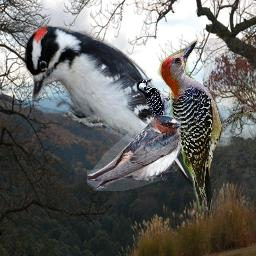Swallow: (87, 115, 181, 191)
Woodpecker: (22, 23, 203, 195), (154, 38, 256, 211), (136, 77, 170, 143)
